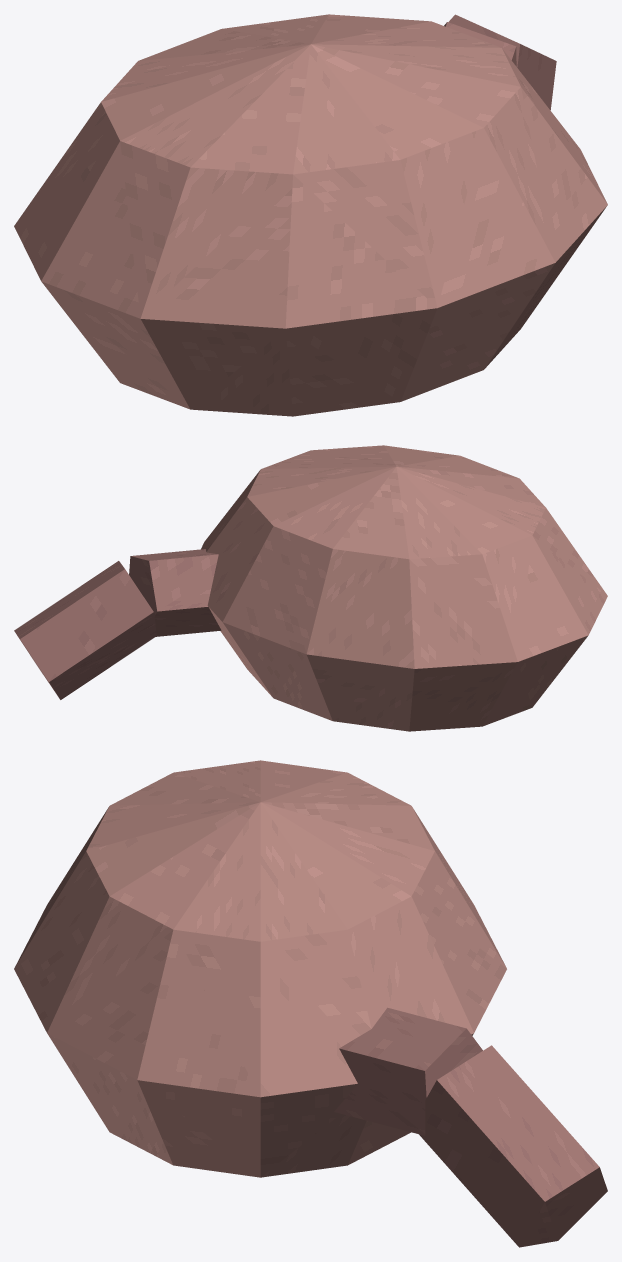
File: stomach_large.glb
3 renders of one model, top to bottom at view 1: azimuth 30°, elevation 25°; view 2: azimuth 150°, elevation 25°; view 3: azimuth 270°, elevation 25°, orthographic. The views are drawn at different scales.
Parts seen in each view (by area): view 1: block_curved stomach tissue, block_thick outlet fold 1, block_thick outlet fold 0; view 2: block_curved stomach tissue, block_thick outlet fold 1, block_thick outlet fold 0; view 3: block_curved stomach tissue, block_thick outlet fold 1, block_thick outlet fold 0.
Boxes of the visible parts, x1,y1,x2,y2 form: block_curved stomach tissue: [14, 14, 607, 416]; block_thick outlet fold 1: [448, 14, 556, 110]; block_thick outlet fold 0: [444, 22, 516, 66]; block_curved stomach tissue: [201, 445, 607, 731]; block_thick outlet fold 1: [14, 561, 156, 699]; block_thick outlet fold 0: [129, 549, 221, 636]; block_curved stomach tissue: [14, 760, 506, 1177]; block_thick outlet fold 1: [419, 1045, 607, 1247]; block_thick outlet fold 0: [334, 1007, 482, 1135].
Bounding box in the file's own units: 0.1508 × 0.0746 × 0.1204.
1 material, 1 textured.
